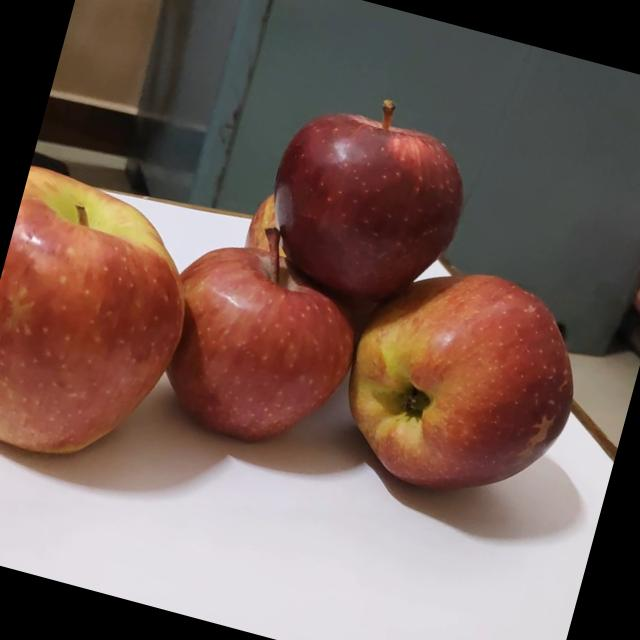apple: (316, 241, 605, 524), (0, 162, 212, 489), (244, 70, 495, 328), (141, 204, 379, 467), (240, 176, 318, 268)
